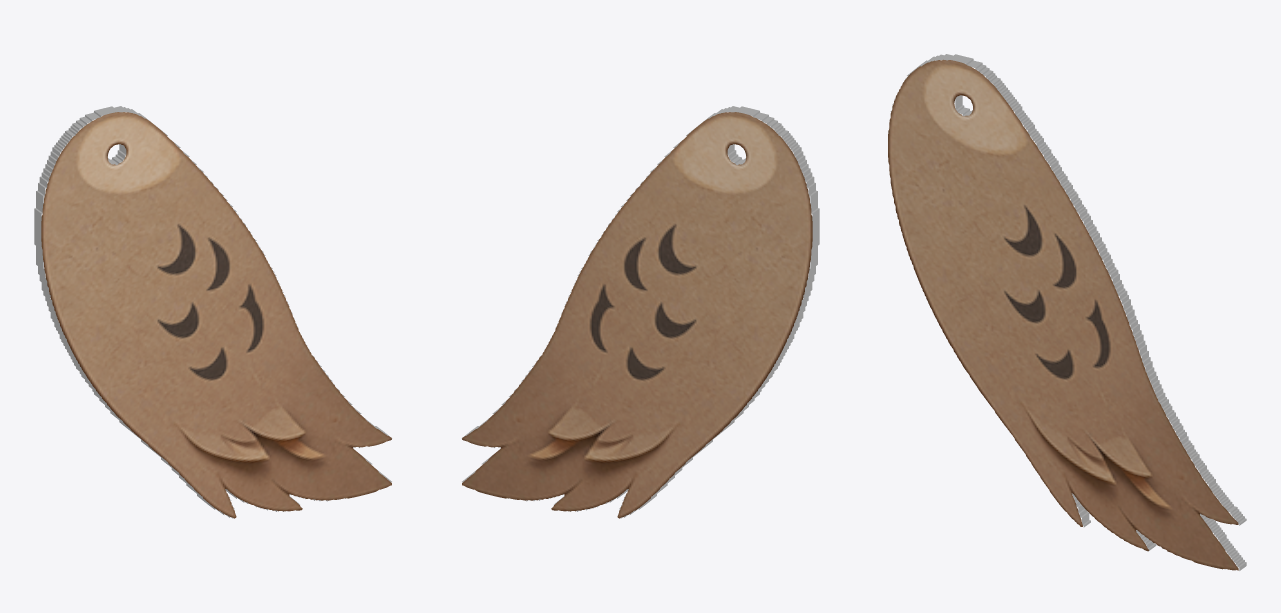
The model's file is TailMain.glb.
3 renders of one model, left to right at view 1: azimuth 30°, elevation 25°; view 2: azimuth 150°, elevation 25°; view 3: azimuth 330°, elevation 25°, orthographic.
Visible parts, largest first — view 1: PaperVolume; view 2: PaperVolume; view 3: PaperVolume.
Boxes of the visible parts, x1=… form: PaperVolume: x1=34, y1=106, x2=392, y2=518; PaperVolume: x1=461, y1=106, x2=819, y2=518; PaperVolume: x1=888, y1=54, x2=1246, y2=570.
Bounding box in the file's own units: 2.44 × 2.89 × 0.08.
3 materials, 2 textured.
